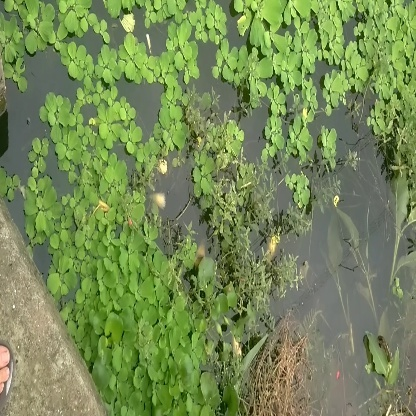leaf: (364, 333, 407, 386)
